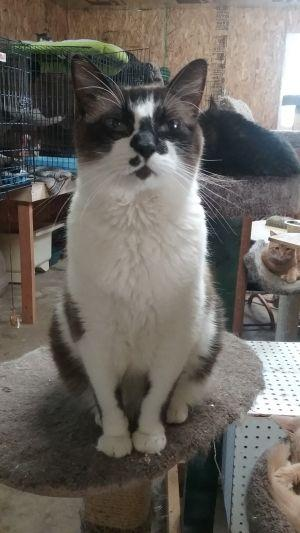ragdoll: (49, 50, 219, 207)
